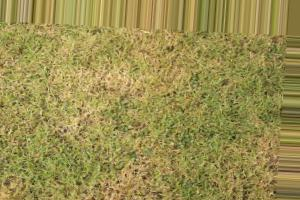patch: (111, 167, 172, 196), (87, 65, 138, 93), (263, 116, 278, 199)
